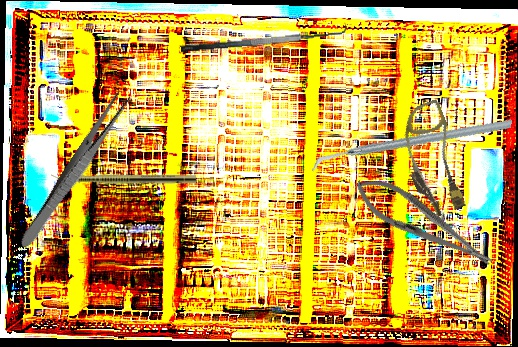Cannula: (387, 98, 479, 221)
Chopper: (311, 78, 513, 213)
Dressing Forceps: (16, 88, 134, 253)
Handpiece: (51, 173, 196, 184)
Needle Holder: (347, 166, 500, 281)
Spatula Surgical: (179, 19, 348, 54)
